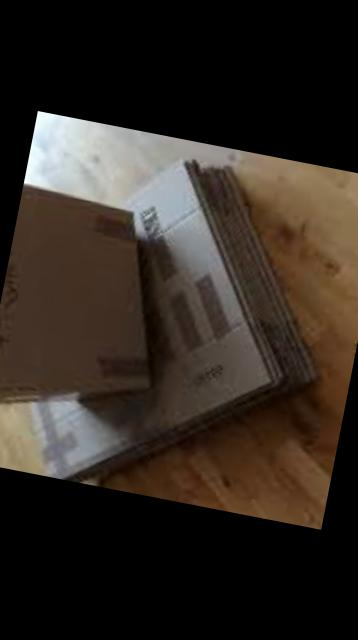cardboard paper: (35, 162, 312, 480), (0, 180, 146, 397)
